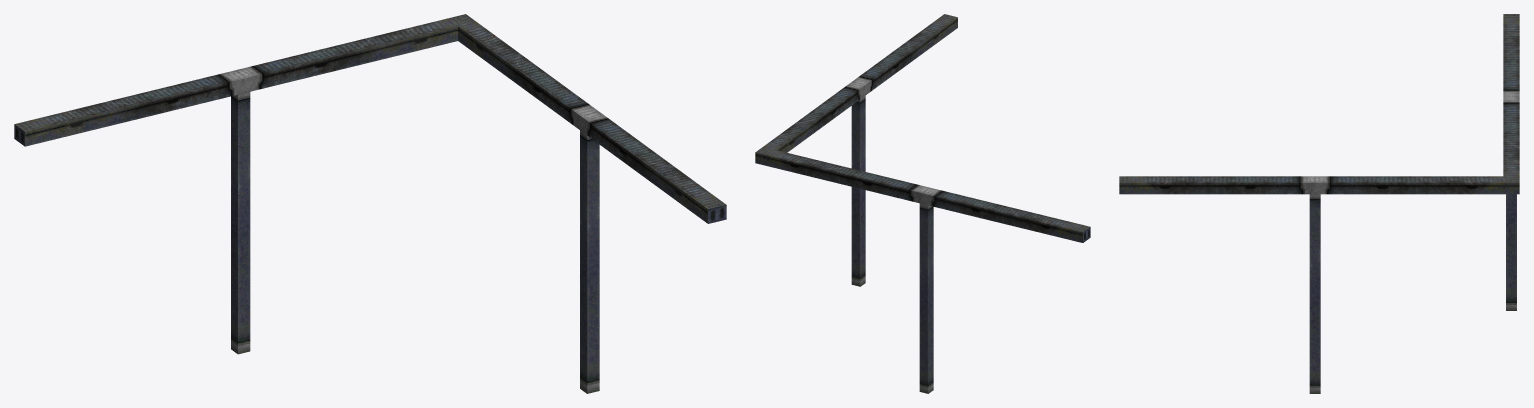
The model's file is railing_concave.dae.
The picture shows the model from 3 angles, left to right: view 1: azimuth 30°, elevation 25°; view 2: azimuth 150°, elevation 25°; view 3: azimuth 270°, elevation 25°; orthographic projection. The views are drawn at different scales.
Parts seen in each view (by area): view 1: railing_concave; view 2: railing_concave; view 3: railing_concave.
Part boxes in pixels (x1=…): railing_concave: x1=14, y1=14, x2=726, y2=393; railing_concave: x1=755, y1=14, x2=1090, y2=393; railing_concave: x1=1119, y1=14, x2=1519, y2=393.
Bounding box in the file's own units: 2.04 × 1.19 × 2.04.
